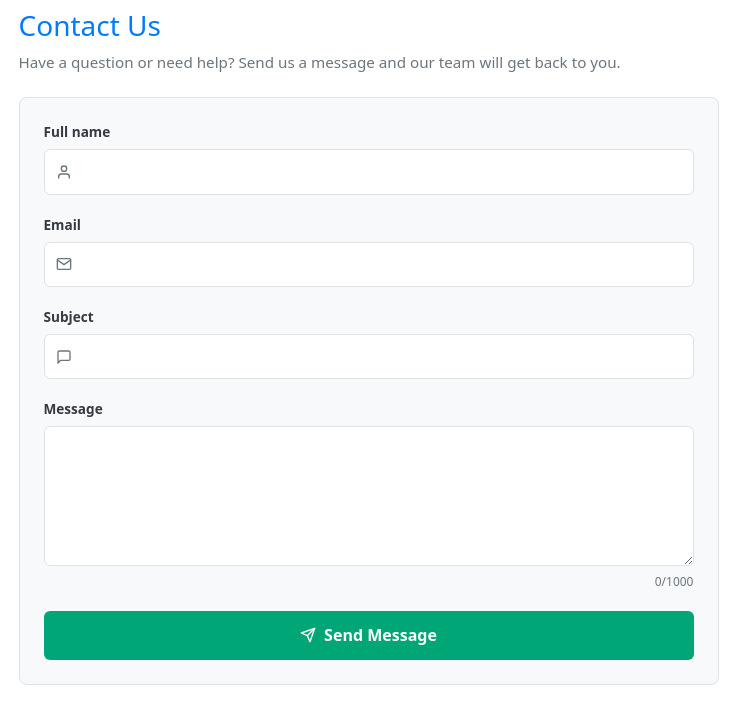
Contact › shows the success state with the server detail and focuses it after a successful submission
The width and height of the screenshot is (739, 702).
Type "Jane Doe" into the field labelled "Full name" at coordinates (368, 172), box 44,149 -> 694,195
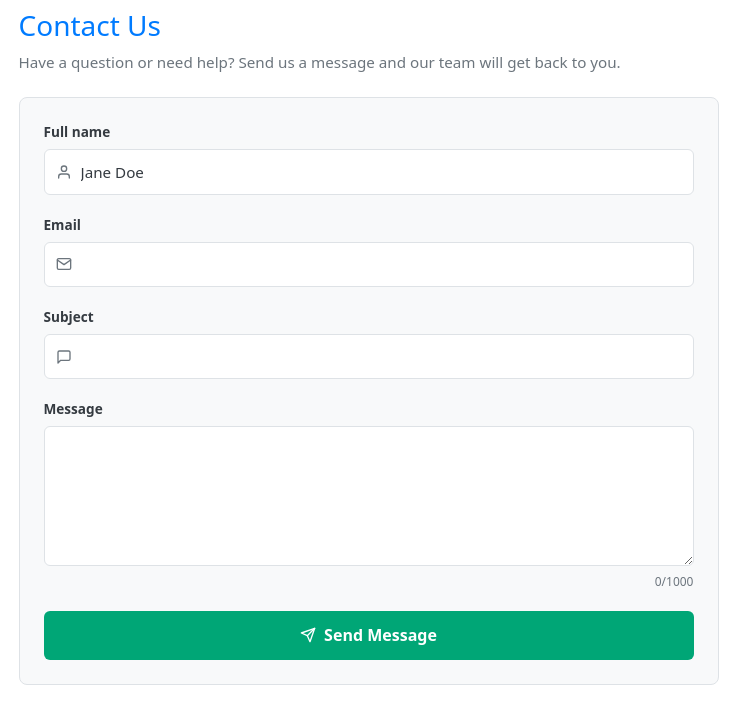
Type "jane@example.com" into the field labelled "Email" at coordinates (368, 264), box 44,242 -> 694,287
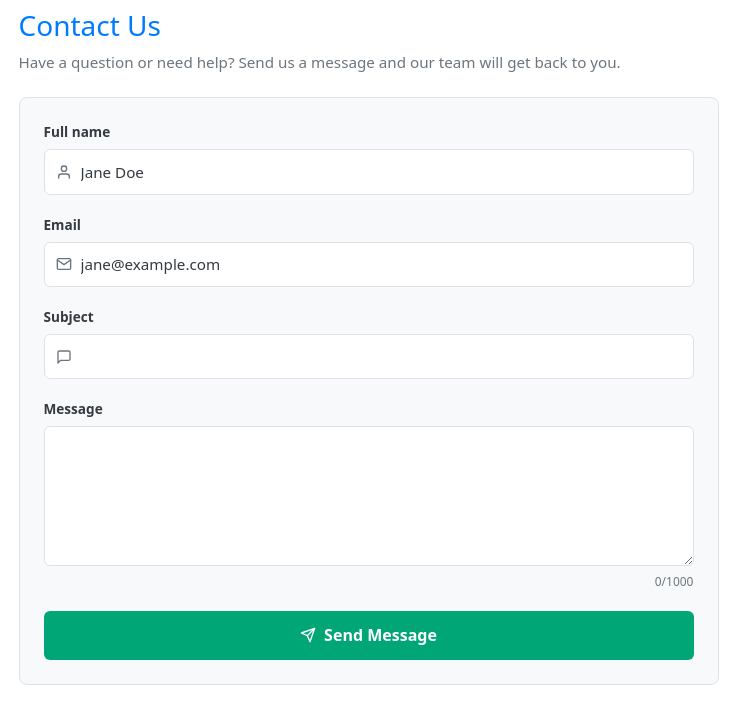
Type "Support request" into the field labelled "Subject" at coordinates (368, 357), box 44,334 -> 694,380
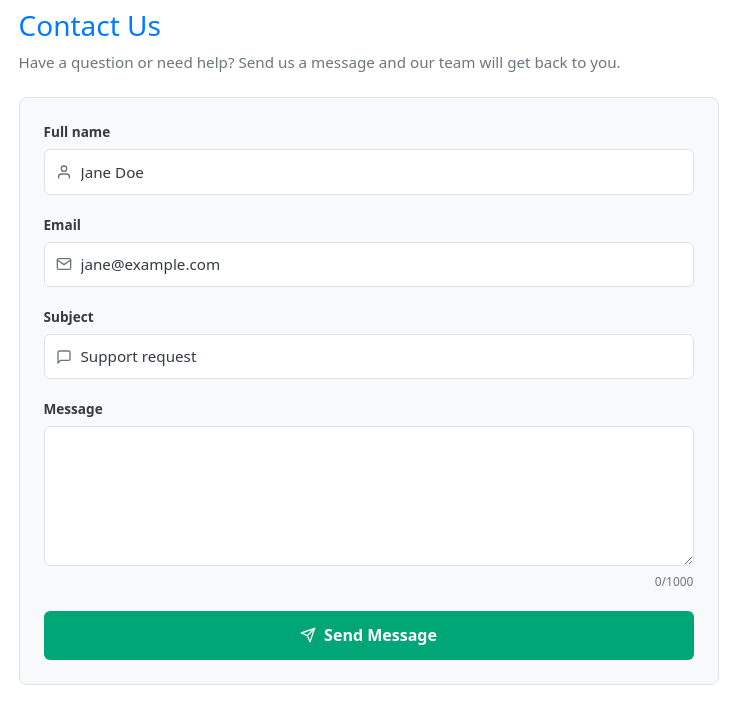
Type "I need help with my appointment." into the text box labelled "Message" at coordinates (368, 496), box 44,426 -> 694,566
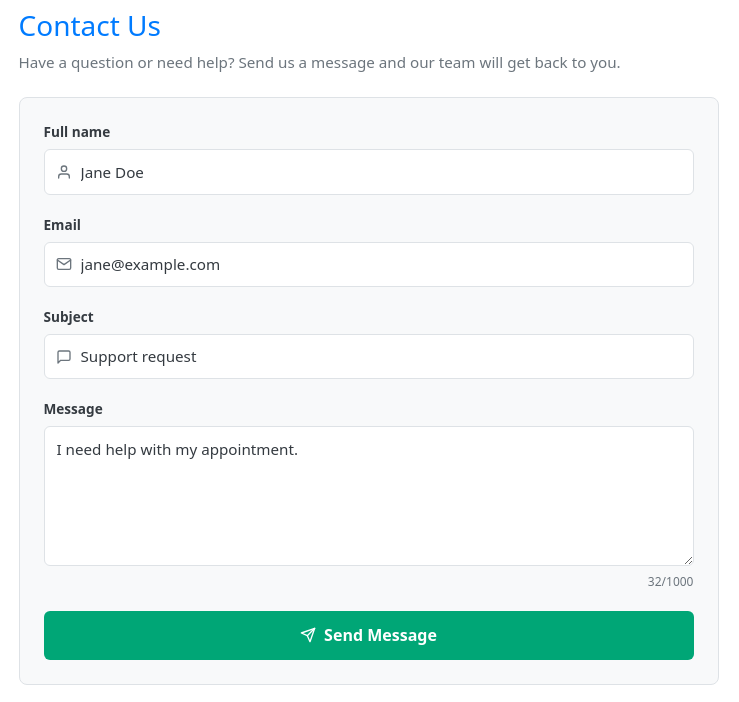
Click the button "Send Message" at coordinates (368, 635), box 44,611 -> 694,660
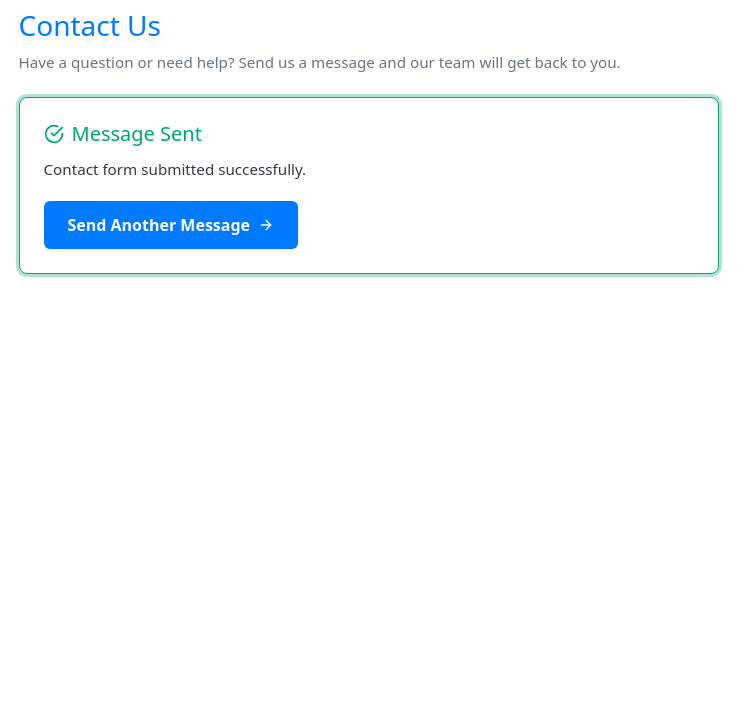
Check: the heading "Message Sent" is shown, box 72,122 -> 202,146
Check: the text "Contact form submitted successfully." is shown, box 44,159 -> 306,179
Check: the label labelled "Full name" is gone
